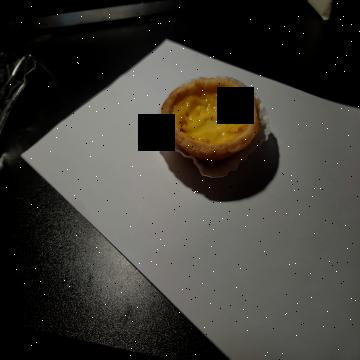EggTart: (159, 75, 262, 167)
